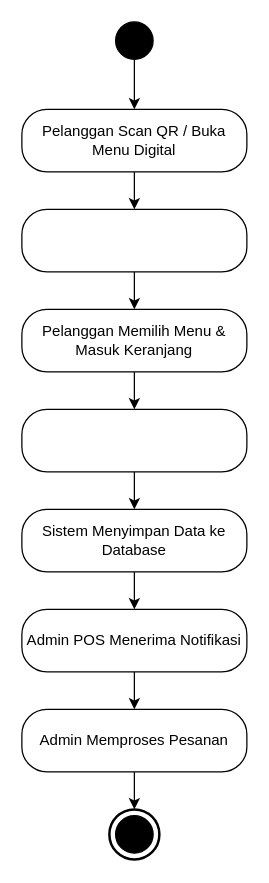
Some shapes in this 269 by 883 pixel diagram are drawn without their labels. Each missing label, with the box of its shape:
Pelanggan Checkout & Input Nama/Meja: (21, 408, 247, 472)
Sistem Menampilkan Daftar Menu: (21, 208, 247, 272)
